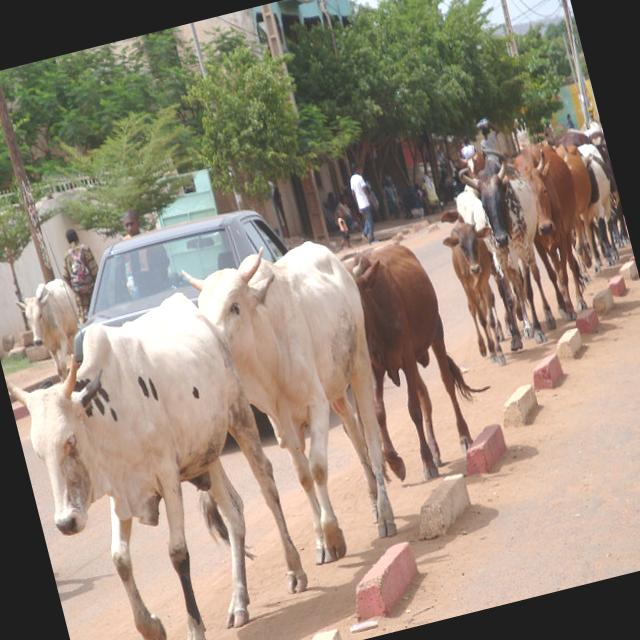Vehicle: (49, 205, 298, 364)
